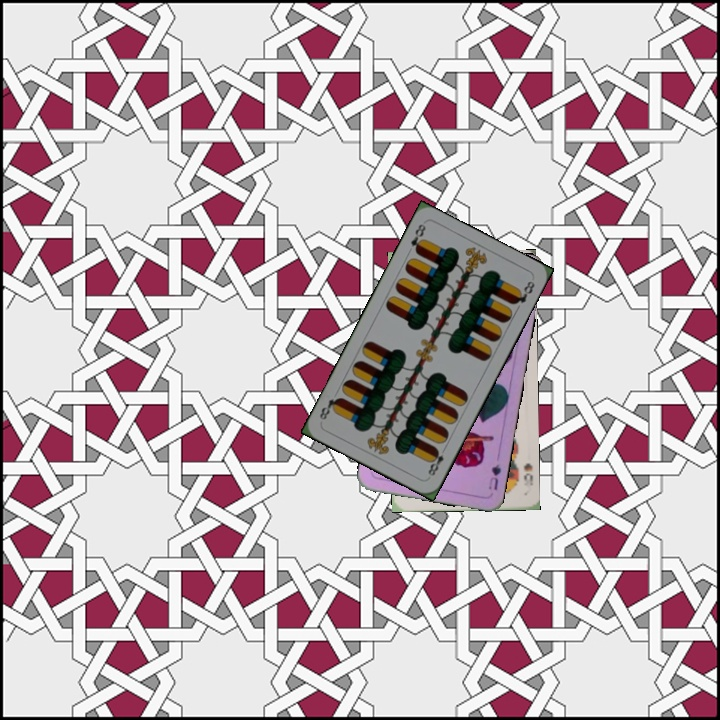E8: (424, 443, 449, 480), (407, 220, 428, 256)
GU: (484, 460, 504, 492)
S8: (520, 459, 535, 493)
